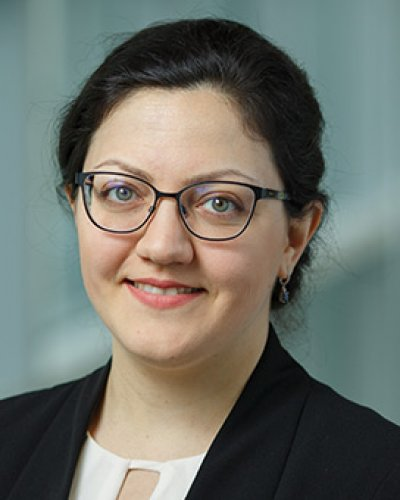person: (57, 15, 325, 371)
